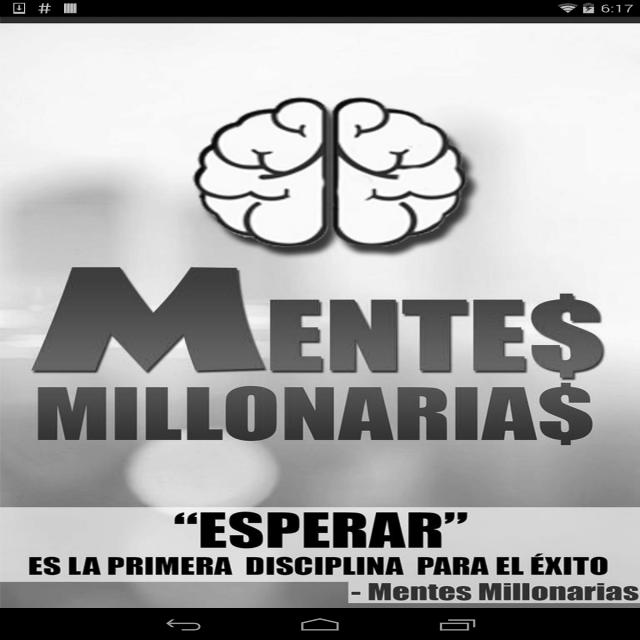Button: (16, 484, 624, 511), (16, 557, 624, 584), (16, 521, 624, 547)
EditText: (16, 447, 624, 474), (16, 411, 624, 437)
ImageView: (0, 17, 640, 608), (0, 17, 640, 571), (0, 17, 640, 162), (0, 275, 640, 389), (0, 162, 640, 275), (0, 389, 640, 502), (0, 502, 640, 615), (16, 298, 624, 365), (0, 571, 640, 608), (0, 16, 640, 48), (160, 18, 480, 46), (0, 571, 128, 608), (128, 571, 256, 608), (256, 571, 384, 608), (384, 571, 512, 608), (512, 571, 640, 608), (5, 574, 123, 594), (133, 574, 251, 594), (261, 574, 379, 594), (389, 574, 507, 594), (517, 574, 635, 594)
TextView: (0, 275, 640, 389), (0, 49, 640, 162), (0, 162, 640, 275), (0, 389, 640, 502), (0, 502, 640, 615), (16, 375, 624, 401), (16, 594, 624, 608), (8, 85, 632, 98), (8, 328, 632, 341), (8, 441, 632, 454), (8, 215, 632, 227), (8, 555, 632, 567), (0, 598, 128, 608), (128, 598, 256, 608), (256, 598, 384, 608), (384, 598, 512, 608), (512, 598, 640, 608)
